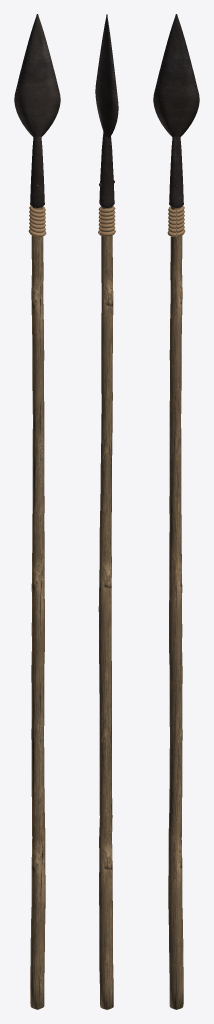
The model's file is spear.glb.
The picture shows the model from 3 angles, left to right: view 1: azimuth 90°, elevation 25°; view 2: azimuth 210°, elevation 25°; view 3: azimuth 270°, elevation 25°; orthographic projection.
Visible parts, largest first — view 1: spear; view 2: spear; view 3: spear.
Part boxes in pixels (x1,y1,x2,y2): spear: (14, 14, 60, 1009); spear: (95, 14, 118, 1009); spear: (153, 14, 199, 1009).
Bounding box in the file's own units: 0.0362 × 2.21 × 0.0936.
1 material, 1 textured.
